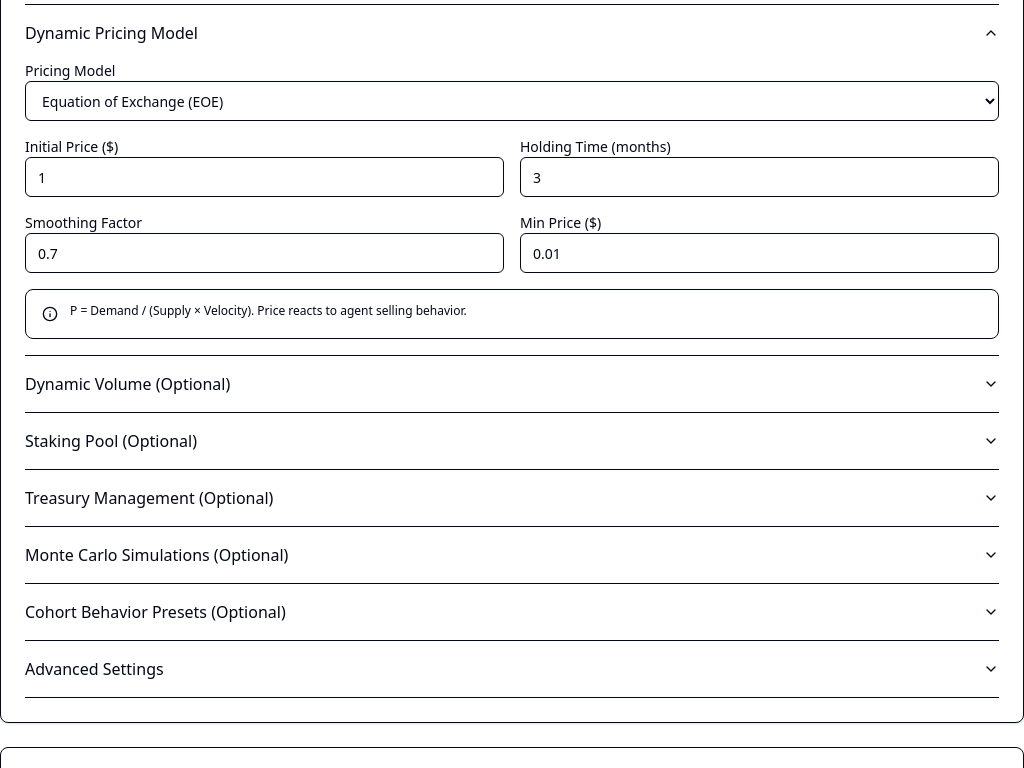
ABM Configuration Form - User Interactions › Volume Configuration › enables volume and shows volume fields
(page scrolled)
Click volume accordion to expand it
What coordinates should you click on to do the following:
click the button "Dynamic Volume (Optional)"
I would click on:
 (128, 384)
Its box is [25,356,999,412].
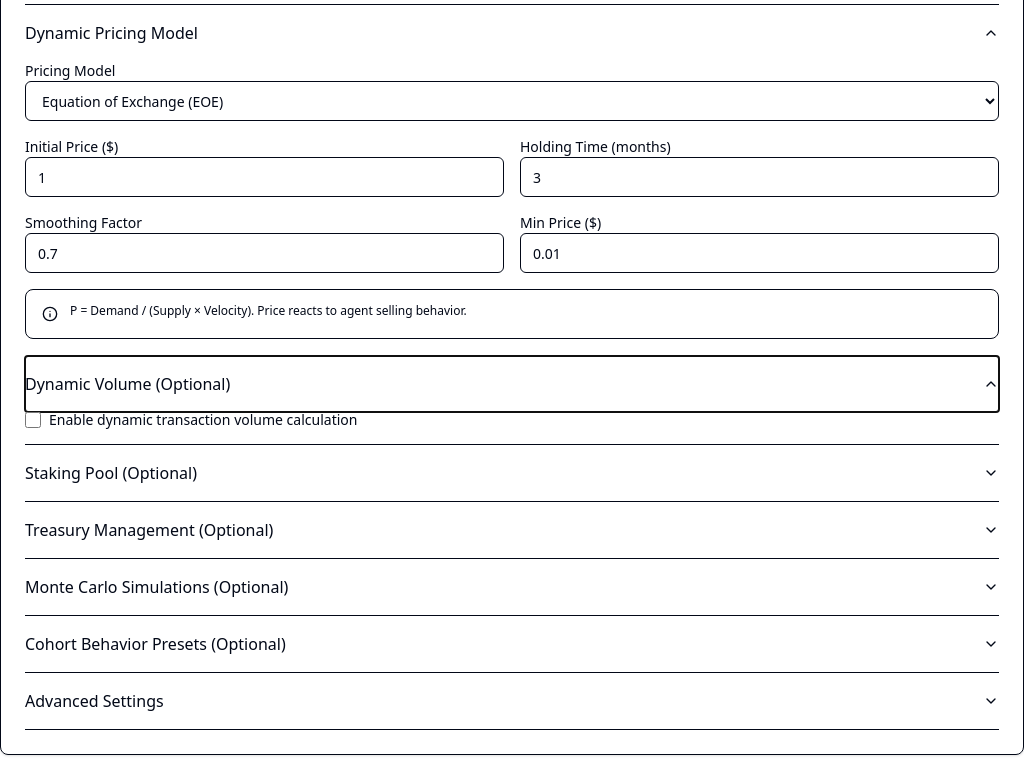
What coordinates should you click on to do the following:
click the checkbox labelled "Enable dynamic transaction volume calculation"
I would click on:
 (33, 420)
Its box is [25,412,41,428].
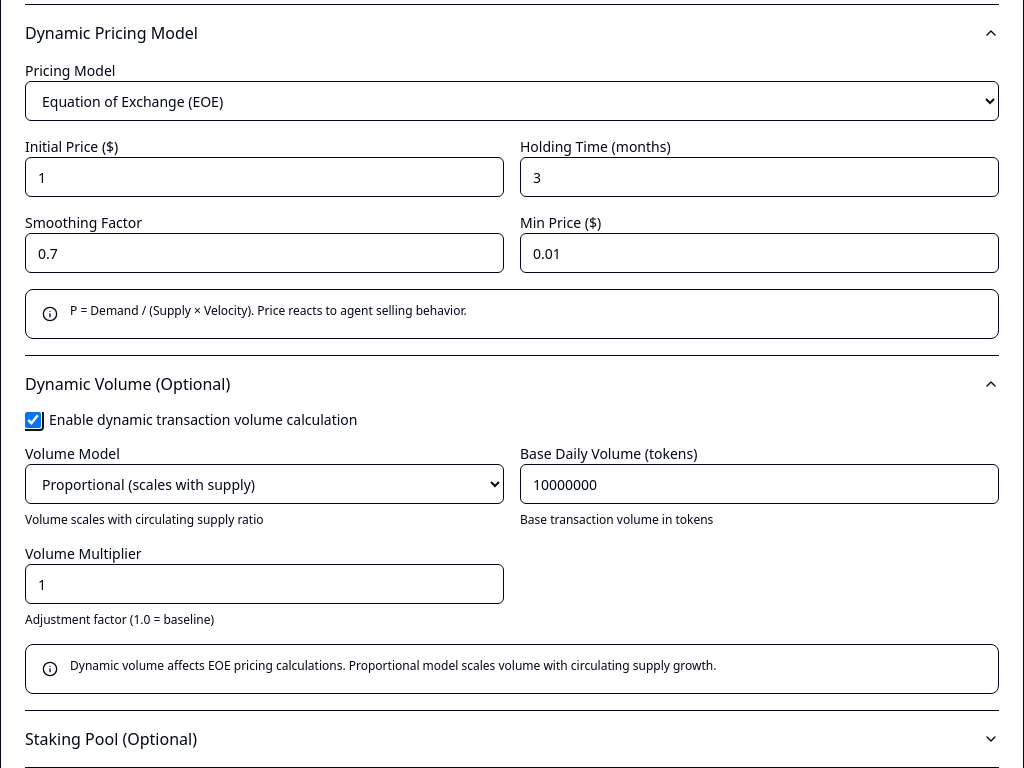
Expected: the dropdown labelled "Volume Model" is shown, [25,464,504,504]
Expected: the number field labelled "Base Daily Volume (tokens)" is shown, [520,464,999,504]
Expected: the number field labelled "Volume Multiplier" is shown, [25,564,504,604]
